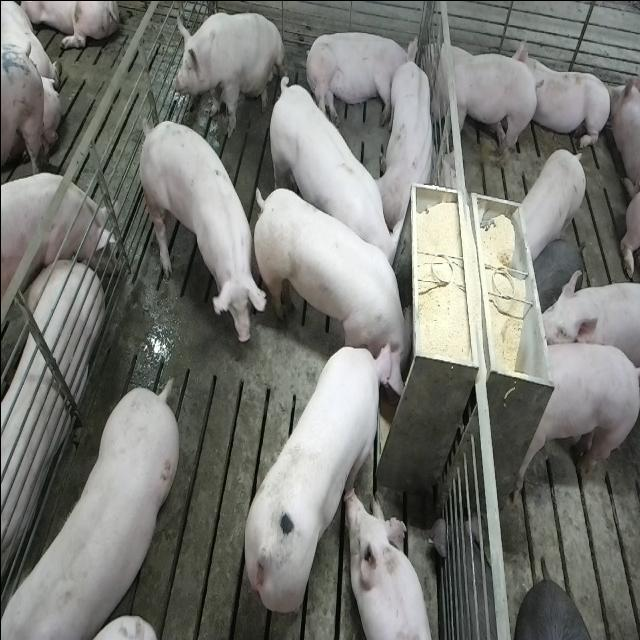Feeding: (242, 338, 398, 618), (255, 177, 420, 383)
Lateral_lying: (0, 254, 100, 605), (302, 28, 418, 128)
Sitting: (171, 8, 285, 136)
Standing: (0, 379, 175, 640), (134, 114, 263, 342), (264, 74, 398, 286), (514, 340, 638, 499), (420, 37, 540, 176), (0, 168, 118, 304), (537, 273, 640, 416), (514, 149, 588, 262)
Sternal_lying: (346, 488, 433, 640), (521, 31, 611, 152), (377, 53, 437, 230)
